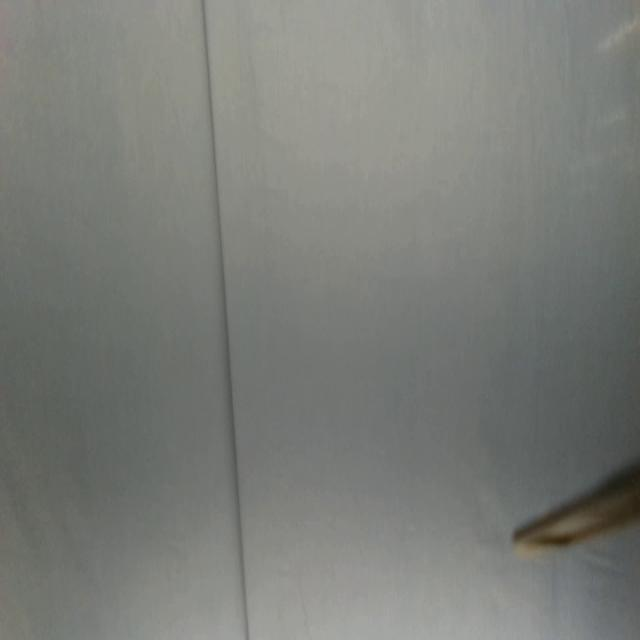crease: (200, 1, 252, 640)
